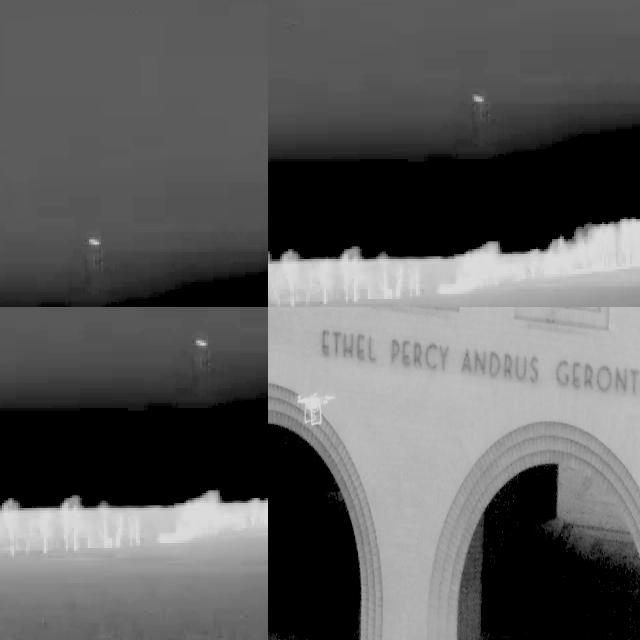1: (75, 224, 115, 270), (182, 326, 222, 372), (461, 84, 497, 124)
drone: (294, 389, 330, 432)
